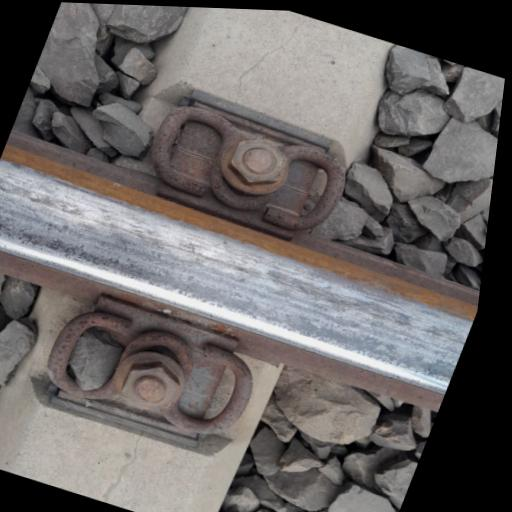bolt: (95, 336, 211, 435), (218, 125, 303, 192)
clip: (17, 292, 284, 466), (118, 78, 376, 249)
rail: (62, 174, 461, 402)
